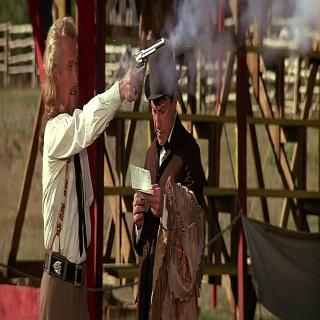gun: (127, 35, 167, 111)
